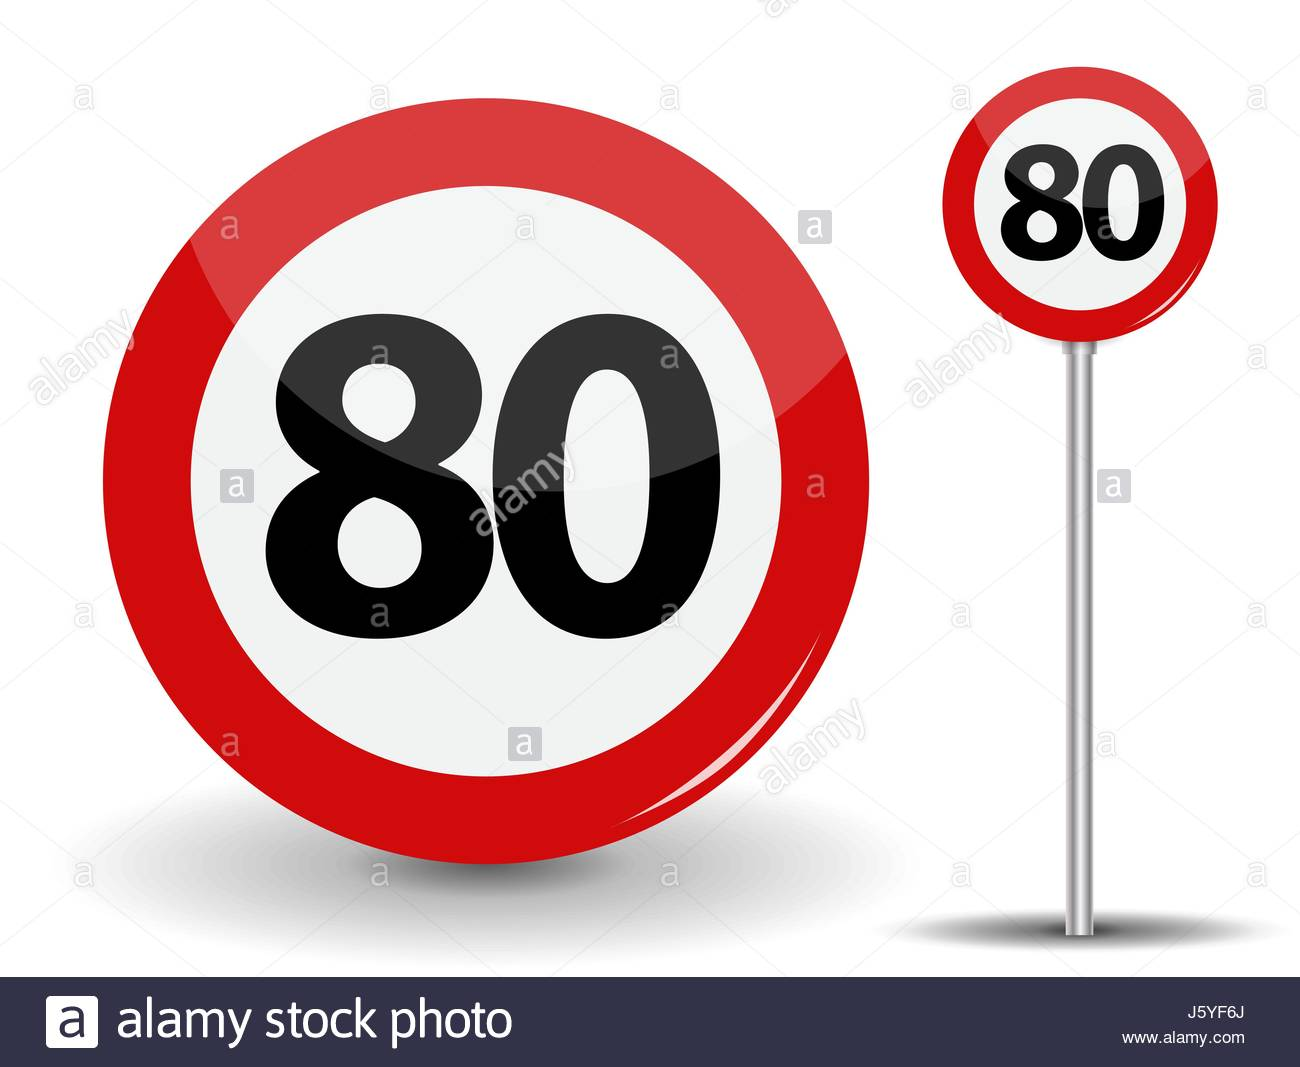Speed_limit_80km: (104, 97, 869, 872), (940, 68, 1219, 341)
